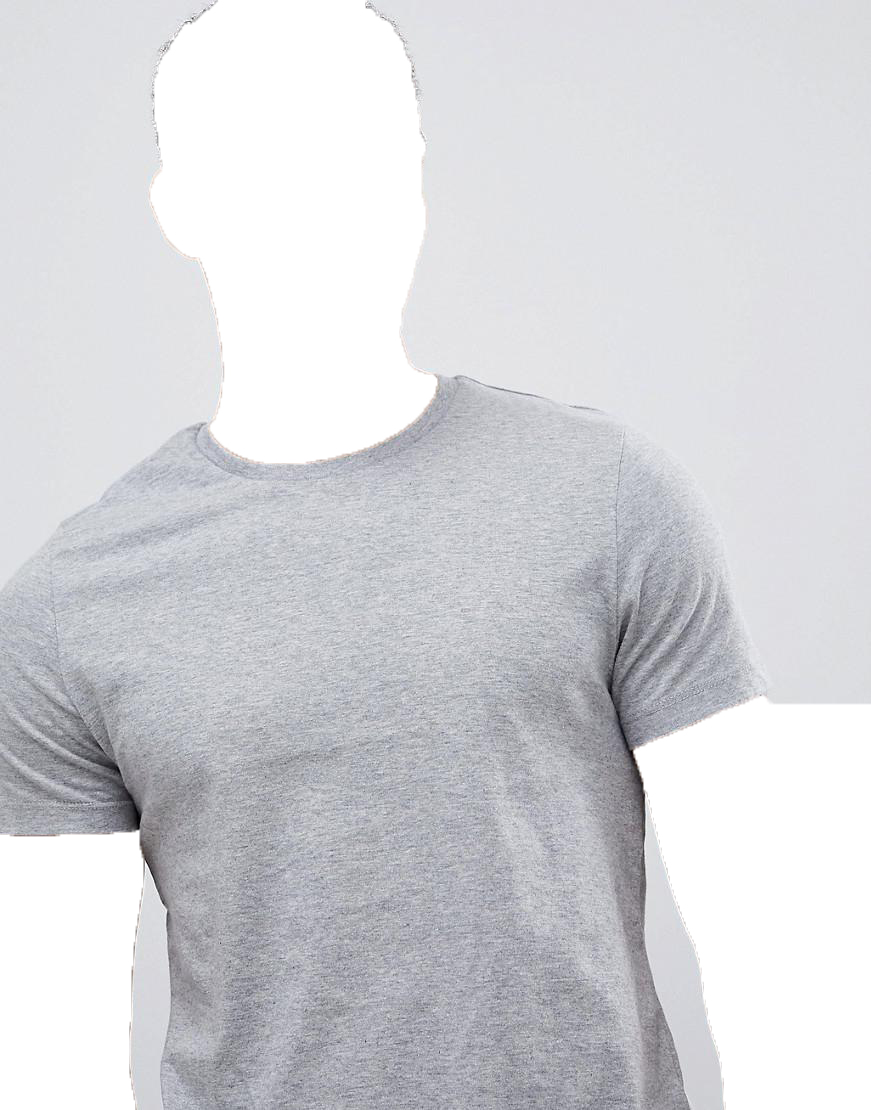teeshirt: (7, 376, 769, 1110)
